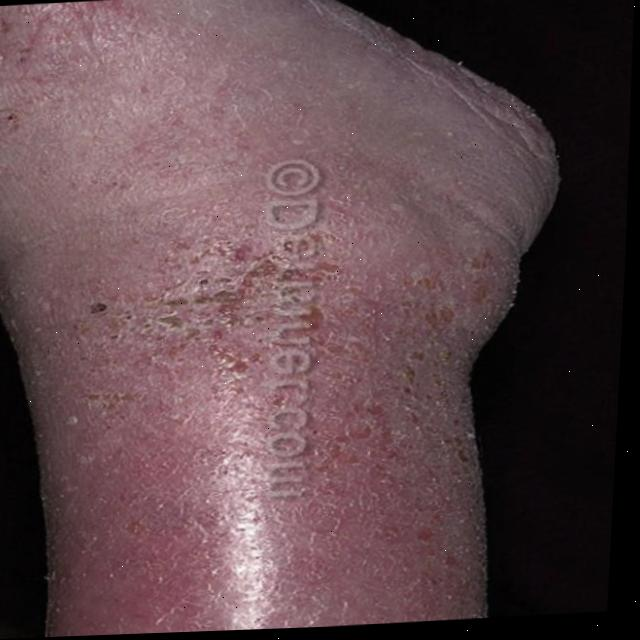Eczema: (44, 181, 484, 593)
